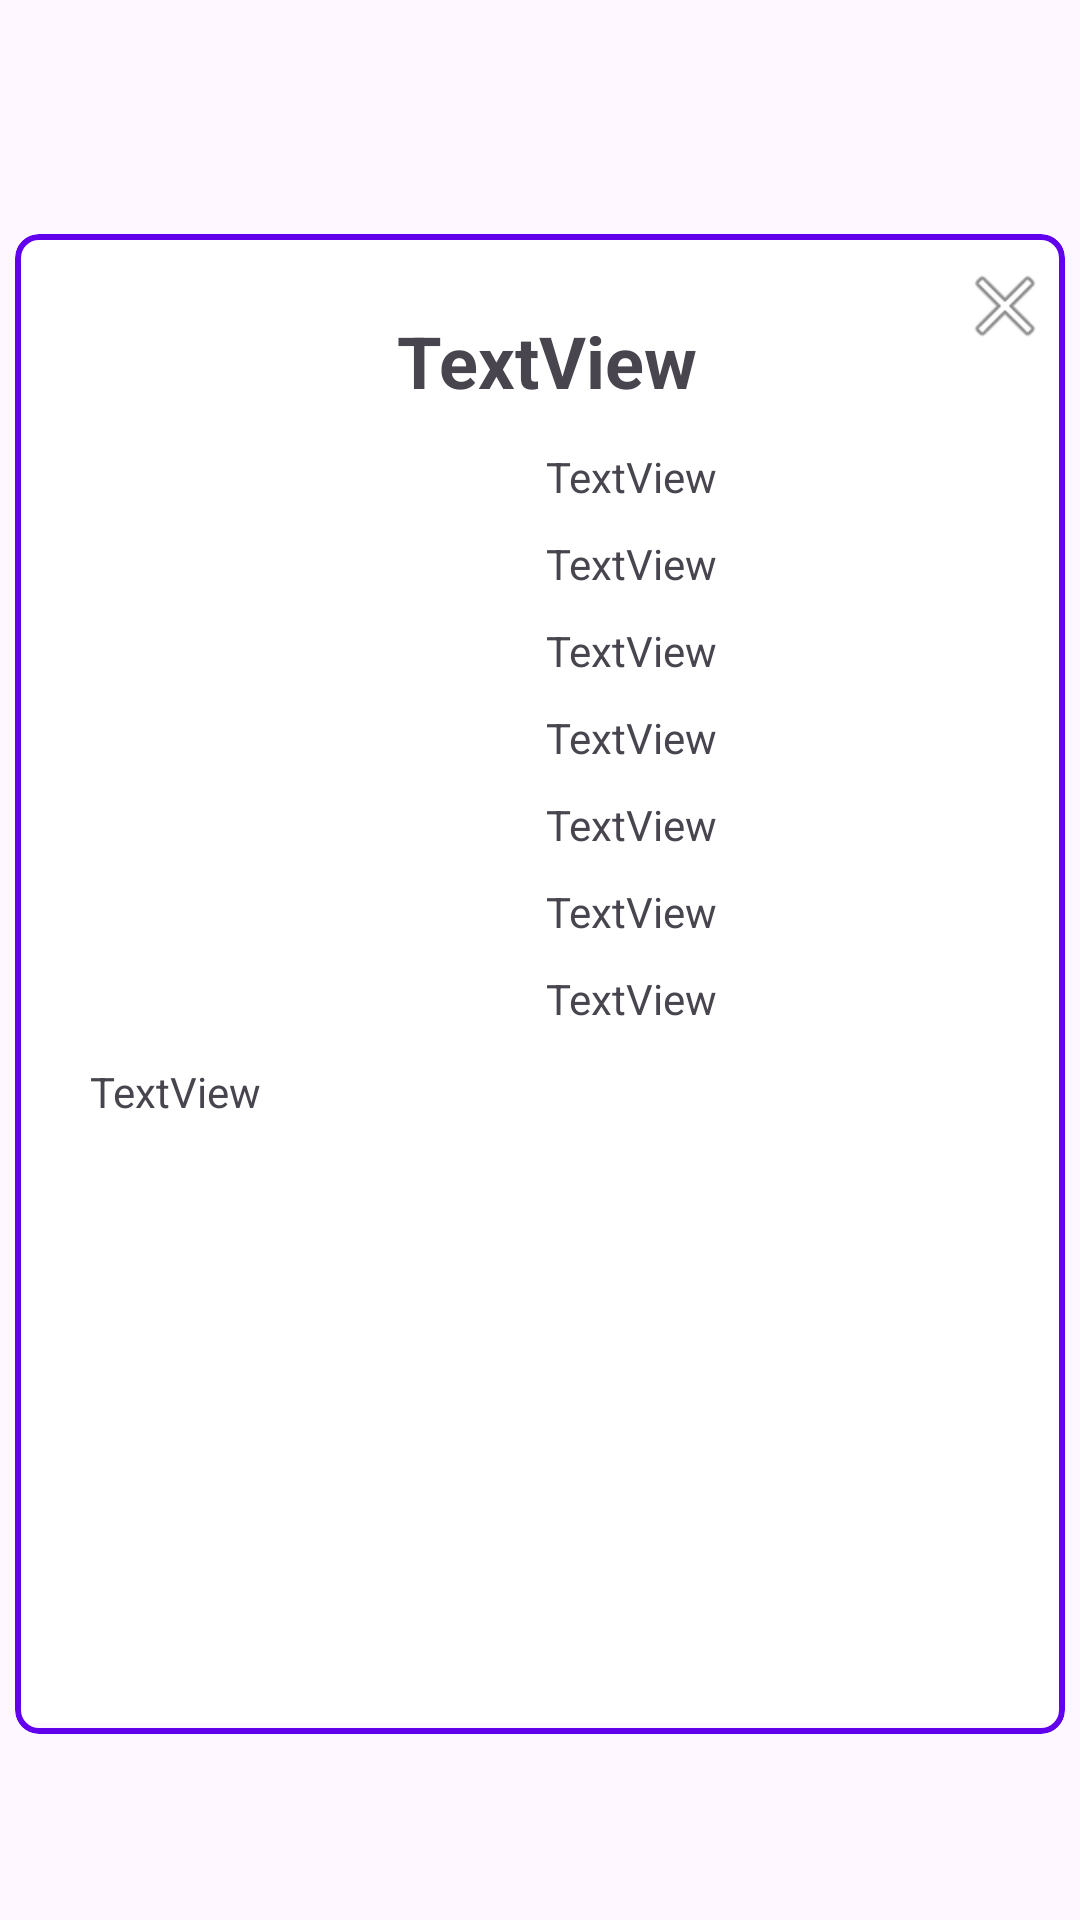

Icon bounding boxes for this 1080w x 1920h phone screenshot, format Rect(x1, y1, x2, y2):
close clear cancel: Rect(975, 276, 1035, 336)
